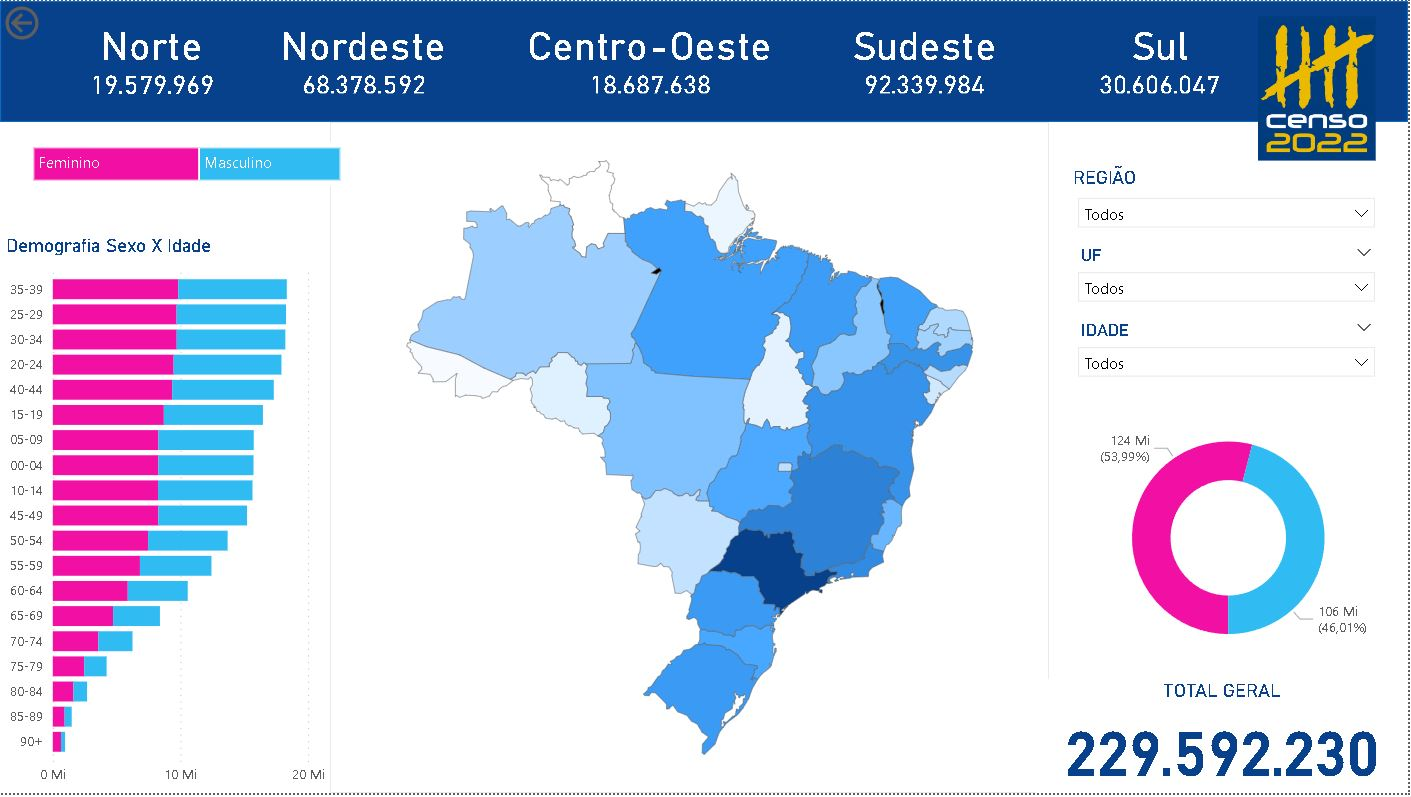

This screenshot's page, from the dashboard's own definition file:
{"tool":"powerbi","page":{"name":"Demografia Brasil","canvas":[1280,720],"ordinal":0},"visuals":[{"type":"shapeMap","fields":{"Value":["Sum(Demografia X Sexo & Idade.POPULAÇÃO)"],"Category":["Demografia X Sexo & Idade.ESTADO"]},"box":[300,110,653.6,610],"z":0},{"type":"shape","box":[0,0,1280.4,110],"z":1000},{"type":"image","box":[1134.1,8.9,126.8,141],"z":2000},{"type":"actionButton","box":[0,0,100,40],"z":3000},{"type":"card","title":"Norte","fields":{"Values":["Sum(Demografia X Sexo & Idade.POPULAÇÃO)"]},"box":[63.1,19.9,150.8,70.1],"z":4000},{"type":"card","title":"Nordeste","fields":{"Values":["Sum(Demografia X Sexo & Idade.POPULAÇÃO)"]},"box":[249.3,20.2,163.3,69.4],"z":5000},{"type":"card","title":"Centro-Oeste","fields":{"Values":["Sum(Demografia X Sexo & Idade.POPULAÇÃO)"]},"box":[472.3,20.2,236.2,69.4],"z":6000},{"type":"card","title":"Sudeste","fields":{"Values":["Sum(Demografia X Sexo & Idade.POPULAÇÃO)"]},"box":[766.4,20.2,148.4,69.4],"z":7000},{"type":"card","title":"Sul","fields":{"Values":["Sum(Demografia X Sexo & Idade.POPULAÇÃO)"]},"box":[979.8,20.2,148.4,69.4],"z":8000},{"type":"slicer","fields":{"Values":["Demografia X Sexo & Idade.UF"]},"box":[970,216.4,290,68.2],"z":9000},{"type":"slicer","title":"REGIÃO","fields":{"Values":["Demografia X Sexo & Idade.REGIÃO"]},"box":[970,150,290,66.4],"z":10000},{"type":"slicer","fields":{"Values":["Demografia X Sexo & Idade.IDADE"]},"box":[970,284.5,290,69.1],"z":11000},{"type":"barChart","title":"Demografia Sexo X Idade","fields":{"Category":["Demografia X Sexo & Idade.IDADE"],"Series":["Demografia X Sexo & Idade.SEXO"],"Y":["Sum(Demografia X Sexo & Idade.POPULAÇÃO)"]},"box":[0,211.8,300,508.2],"z":12000},{"type":"donutChart","title":"Demografia X Sexo","fields":{"Y":["Sum(Demografia X Sexo & Idade.POPULAÇÃO)"],"Category":["Demografia X Sexo & Idade.SEXO"]},"box":[953.6,360,326.4,256.4],"z":13000},{"type":"treemap","fields":{"Group":["Demografia X Sexo & Idade.SEXO"],"Values":["Sum(Demografia X Sexo & Idade.POPULAÇÃO)"]},"box":[11.8,125.5,288.2,40],"z":14000},{"type":"card","title":"TOTAL GERAL","fields":{"Values":["Sum(Demografia X Sexo & Idade.POPULAÇÃO)"]},"box":[941.8,616.4,338.2,103.6],"z":14001}]}

Visuals, with their boxes in screenshot pixels (x1, y1, x2, y2), scaled from the page's 1280x720 canvas onto the 1411x797 screenshot:
shapeMap - Sum(Demografia X Sexo & Idade.POPULAÇÃO) x Demografia X Sexo & Idade.ESTADO: rect(331, 122, 1051, 796)
shape: rect(0, 0, 1410, 122)
image: rect(1250, 10, 1390, 166)
actionButton: rect(0, 0, 110, 44)
"Norte" card: rect(70, 22, 236, 100)
"Nordeste" card: rect(275, 22, 455, 99)
"Centro-Oeste" card: rect(521, 22, 781, 99)
"Sudeste" card: rect(845, 22, 1008, 99)
"Sul" card: rect(1080, 22, 1244, 99)
slicer - Demografia X Sexo & Idade.UF: rect(1069, 240, 1389, 315)
"REGIÃO" slicer: rect(1069, 166, 1389, 240)
slicer - Demografia X Sexo & Idade.IDADE: rect(1069, 315, 1389, 391)
"Demografia Sexo X Idade" barChart: rect(0, 234, 331, 796)
"Demografia X Sexo" donutChart: rect(1051, 398, 1410, 682)
treemap - Demografia X Sexo & Idade.SEXO x Sum(Demografia X Sexo & Idade.POPULAÇÃO): rect(13, 139, 331, 183)
"TOTAL GERAL" card: rect(1038, 682, 1410, 796)
